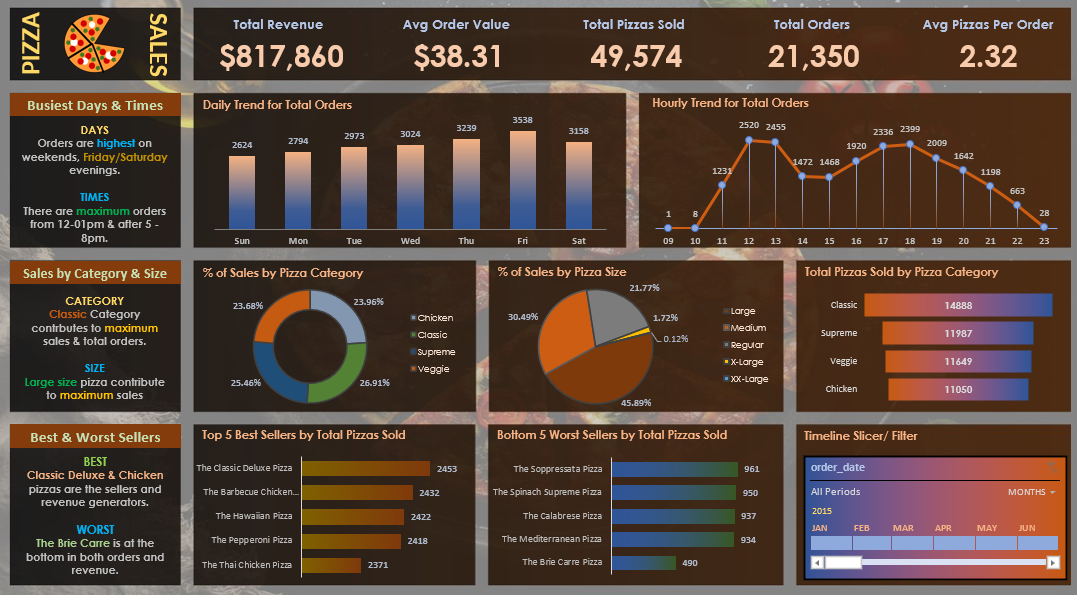

The dashboard page shown, as its layout file describes it:
{"tool":"tableau","page":{"name":"Home","canvas":[1600,900],"ordinal":1},"visuals":[{"type":"image","param":"Image/Pizza Tableau.jpg","box":[0,0,1600,900]},{"type":"text","box":[107,16,153,31]},{"type":"text","box":[618,16,362,36]},{"type":"filter","title":"Total Orders Trend by Order Hour","param":"[federated.1nn7g37097crt1180lo9p08y1th8].[none:order_date:qk]","box":[1376,16,200,57]},{"type":"filter","title":"Total Orders Trend by Order Hour","param":"[federated.1nn7g37097crt1180lo9p08y1th8].[none:pizza_category:nk]","box":[1186,17,182,59]},{"type":"image","param":"Image/DT 2.png","box":[21,20,72,49]},{"type":"image","param":"Image/pizza-slice.png","box":[577,22,44,28]},{"type":"text","box":[143,40,110,31]},{"type":"worksheet","title":"Date Range","mark":"Automatic","box":[692,52,205,20]},{"type":"image","param":"Image/profit-growth.png","box":[389,91,45,37]},{"type":"image","param":"Image/delivery-man.png","box":[1165,92,40,34]},{"type":"image","param":"Image/shipping-box.png","box":[645,94,43,31]},{"type":"image","param":"Image/order-delivery.png","box":[910,94,38,31]},{"type":"image","param":"Image/order (1).png","box":[1422,95,41,34]},{"type":"dashboard-object","box":[26,106,233,47]},{"type":"image","param":"Image/home (1) 1.png","box":[27,113,42,36]},{"type":"worksheet","title":"KPI Banner","mark":"Automatic","box":[281,134,1290,82]},{"type":"dashboard-object","box":[26,162,233,47]},{"type":"image","param":"Image/choice 1.png","box":[27,167,42,36]},{"type":"text","box":[18,232,250,30]},{"type":"worksheet","title":"Total Orders by Month ","mark":"Area","rows":["Calculation_1225260629919797248","Calculation_1225260629919797248"],"cols":["order_date"],"box":[931,234,645,298]},{"type":"legend","title":"Total Orders Trend by Order Hour","param":"[federated.1nn7g37097crt1180lo9p08y1th8].[none:pizza_category:nk]","box":[695,236,252,45]},{"type":"worksheet","title":"Total Orders Trend by Order Hour","mark":"Bar","rows":["Calculation_1225260629920124930","Calculation_1225260629920124930"],"cols":["order_time"],"box":[282,238,628,293]},{"type":"text","box":[21,262,243,274]},{"type":"text","box":[18,547,250,30]},{"type":"worksheet","title":"% of Sales by Pizza Category","mark":"Pie","rows":["Calculation_1225260630074863622","Calculation_1225260630263562255"],"box":[286,554,415,322]},{"type":"text","box":[1185,555,372,30]},{"type":"worksheet","title":"Sheet 8","mark":"Line","rows":["pizza_size"],"box":[730,556,428,322]},{"type":"text","box":[23,577,239,306]},{"type":"legend","title":"Total Orders & Quantity Sold by Pizza Category (2)","param":"[federated.1nn7g37097crt1180lo9p08y1th8].[:Measure Names]","box":[1193,599,364,26]},{"type":"worksheet","title":"Total Orders & Quantity Sold by Pizza Category (2)","mark":"Automatic","rows":["pizza_category"],"box":[1180,628,389,250]}]}

Visuals, with their boxes in screenshot pixels (x1, y1, x2, y2), scaled from the page's 1600x900 canvas onto the 1077x595 screenshot:
image: region(0, 0, 1076, 594)
text: region(72, 11, 175, 31)
text: region(416, 11, 660, 34)
"Total Orders Trend by Order Hour" filter: region(926, 11, 1061, 48)
"Total Orders Trend by Order Hour" filter: region(798, 11, 921, 50)
image: region(14, 13, 63, 46)
image: region(388, 15, 418, 33)
text: region(96, 26, 170, 47)
"Date Range" worksheet: region(466, 34, 604, 48)
image: region(262, 60, 292, 85)
image: region(784, 61, 811, 83)
image: region(434, 62, 463, 83)
image: region(613, 62, 638, 83)
image: region(957, 63, 985, 85)
dashboard-object: region(18, 70, 174, 101)
image: region(18, 75, 46, 99)
"KPI Banner" worksheet: region(189, 89, 1057, 143)
dashboard-object: region(18, 107, 174, 138)
image: region(18, 110, 46, 134)
text: region(12, 153, 180, 173)
"Total Orders by Month " worksheet (Area marks): region(627, 155, 1061, 352)
"Total Orders Trend by Order Hour" legend: region(468, 156, 637, 186)
"Total Orders Trend by Order Hour" worksheet (Bar marks): region(190, 157, 613, 351)
text: region(14, 173, 178, 354)
text: region(12, 362, 180, 381)
"% of Sales by Pizza Category" worksheet (Pie marks): region(193, 366, 472, 579)
text: region(798, 367, 1048, 387)
"Sheet 8" worksheet (Line marks): region(491, 368, 779, 580)
text: region(15, 381, 176, 584)
"Total Orders & Quantity Sold by Pizza Category (2)" legend: region(803, 396, 1048, 413)
"Total Orders & Quantity Sold by Pizza Category (2)" worksheet: region(794, 415, 1056, 580)
